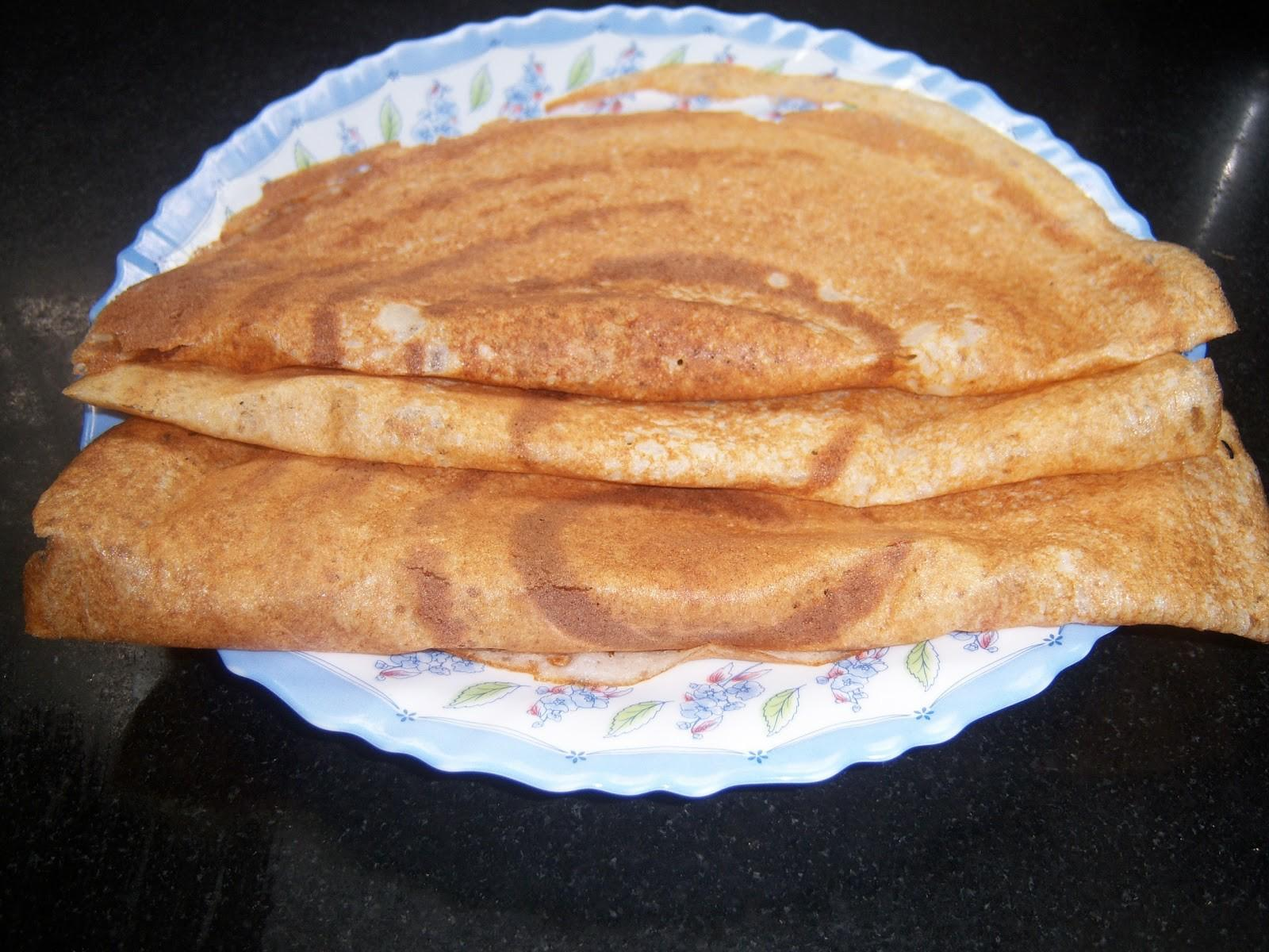Dosa: (71, 65, 1235, 394), (19, 415, 1269, 653), (67, 327, 1224, 507)
